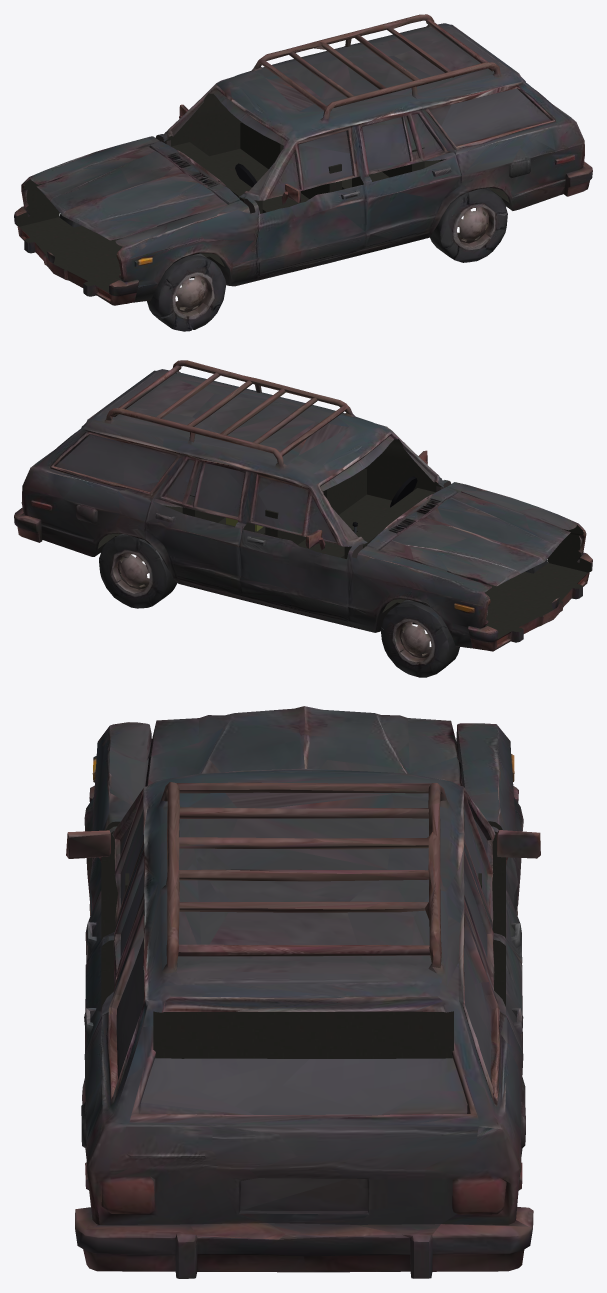
Rendered from car_station_wagon_b.glb.
The picture shows the model from 3 angles, top to bottom: view 1: azimuth 30°, elevation 25°; view 2: azimuth 150°, elevation 25°; view 3: azimuth 270°, elevation 25°; orthographic projection. The views are drawn at different scales.
Visible parts, largest first — view 1: body, hood, door_front_1, door_front_2, wheel_3, wheel_1, tailgate, door_back_1; view 2: body, hood, door_back_1, door_back_2, wheel_4, wheel_2, tailgate, door_front_1; view 3: body, tailgate, hood, door_front_1, door_back_1, door_front_2, door_back_2.
Boxes of the visible parts, x1=… form: body: x1=14, y1=14, x2=592, y2=305; hood: x1=29, y1=137, x2=245, y2=247; door_front_1: x1=244, y1=127, x2=371, y2=274; door_front_2: x1=357, y1=105, x2=460, y2=247; wheel_3: x1=430, y1=188, x2=507, y2=262; wheel_1: x1=147, y1=253, x2=226, y2=331; tailgate: x1=539, y1=93, x2=592, y2=178; door_back_1: x1=155, y1=84, x2=240, y2=156; body: x1=14, y1=360, x2=592, y2=651; hood: x1=361, y1=483, x2=577, y2=593; door_back_1: x1=235, y1=473, x2=362, y2=620; door_back_2: x1=146, y1=451, x2=249, y2=593; wheel_4: x1=99, y1=534, x2=176, y2=608; wheel_2: x1=380, y1=599, x2=459, y2=677; tailgate: x1=14, y1=439, x2=67, y2=523; door_front_1: x1=367, y1=430, x2=451, y2=500; body: x1=75, y1=725, x2=532, y2=1278; tailgate: x1=75, y1=1050, x2=533, y2=1241; hood: x1=98, y1=706, x2=509, y2=830; door_front_1: x1=66, y1=786, x2=146, y2=967; door_back_1: x1=464, y1=787, x2=540, y2=967; door_front_2: x1=83, y1=850, x2=144, y2=1085; door_back_2: x1=464, y1=850, x2=523, y2=1052.
Bounding box in the file's own units: 4.8 × 1.66 × 1.99.
Materials: 7 (4 with a texture image).
